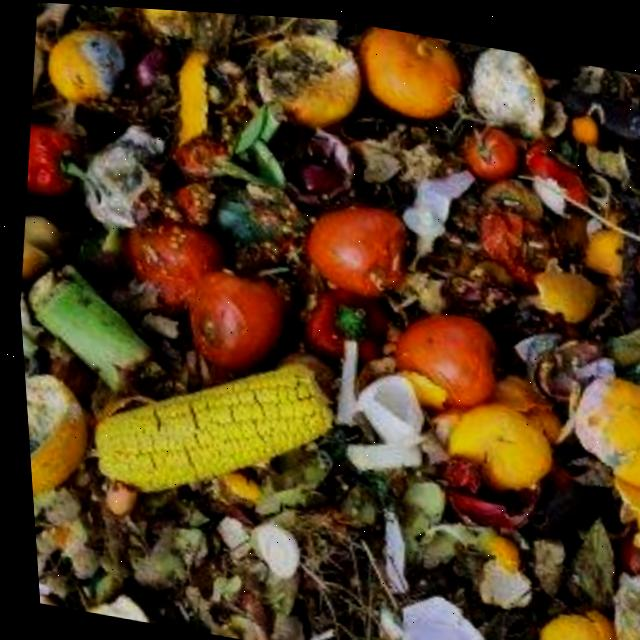Garbage: (16, 2, 640, 640)
